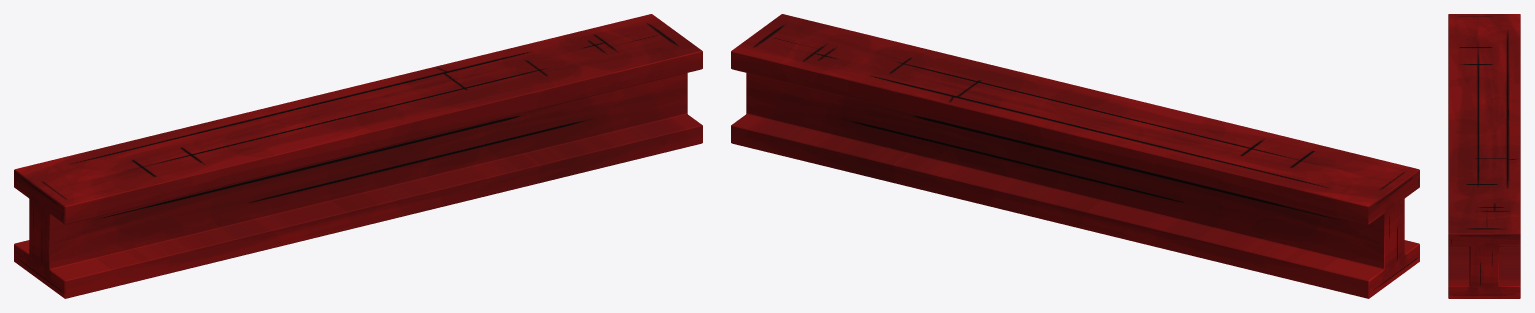
File: IBeam.FBX
3 renders of one model, left to right at view 1: azimuth 30°, elevation 25°; view 2: azimuth 150°, elevation 25°; view 3: azimuth 270°, elevation 25°, orthographic. The views are drawn at different scales.
Visible parts, largest first — view 1: PRO_Metal; view 2: PRO_Metal; view 3: PRO_Metal.
Boxes of the visible parts, x1,y1,x2,y2 form: PRO_Metal: (14, 14, 702, 298); PRO_Metal: (731, 14, 1419, 298); PRO_Metal: (1448, 14, 1520, 298).
Size of the model in its own units: 72 by 10 by 10.
1 material, 1 textured.
